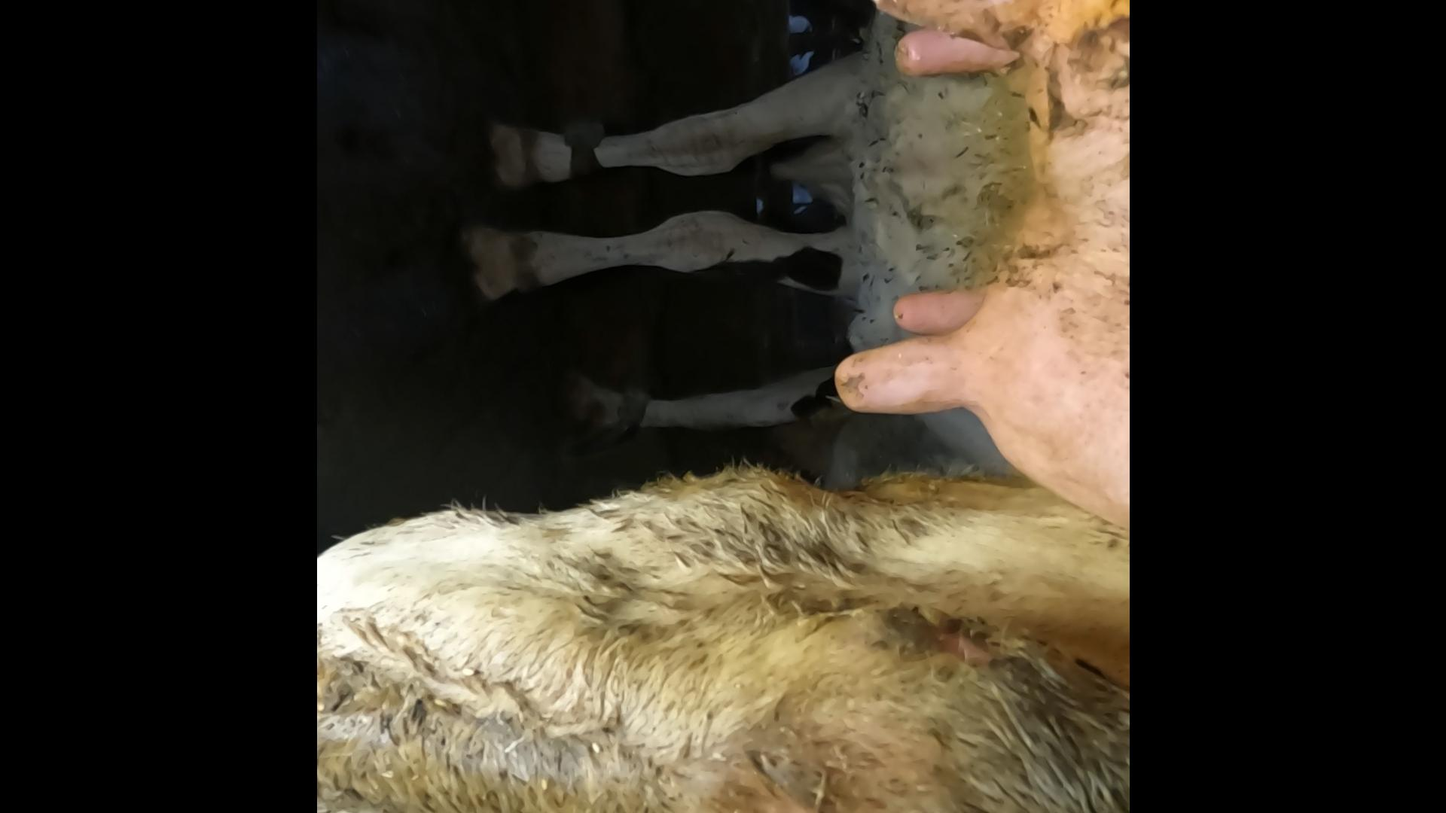Zitze: (827, 328, 991, 430), (872, 11, 1019, 88), (853, 0, 1057, 40), (884, 271, 998, 330)
